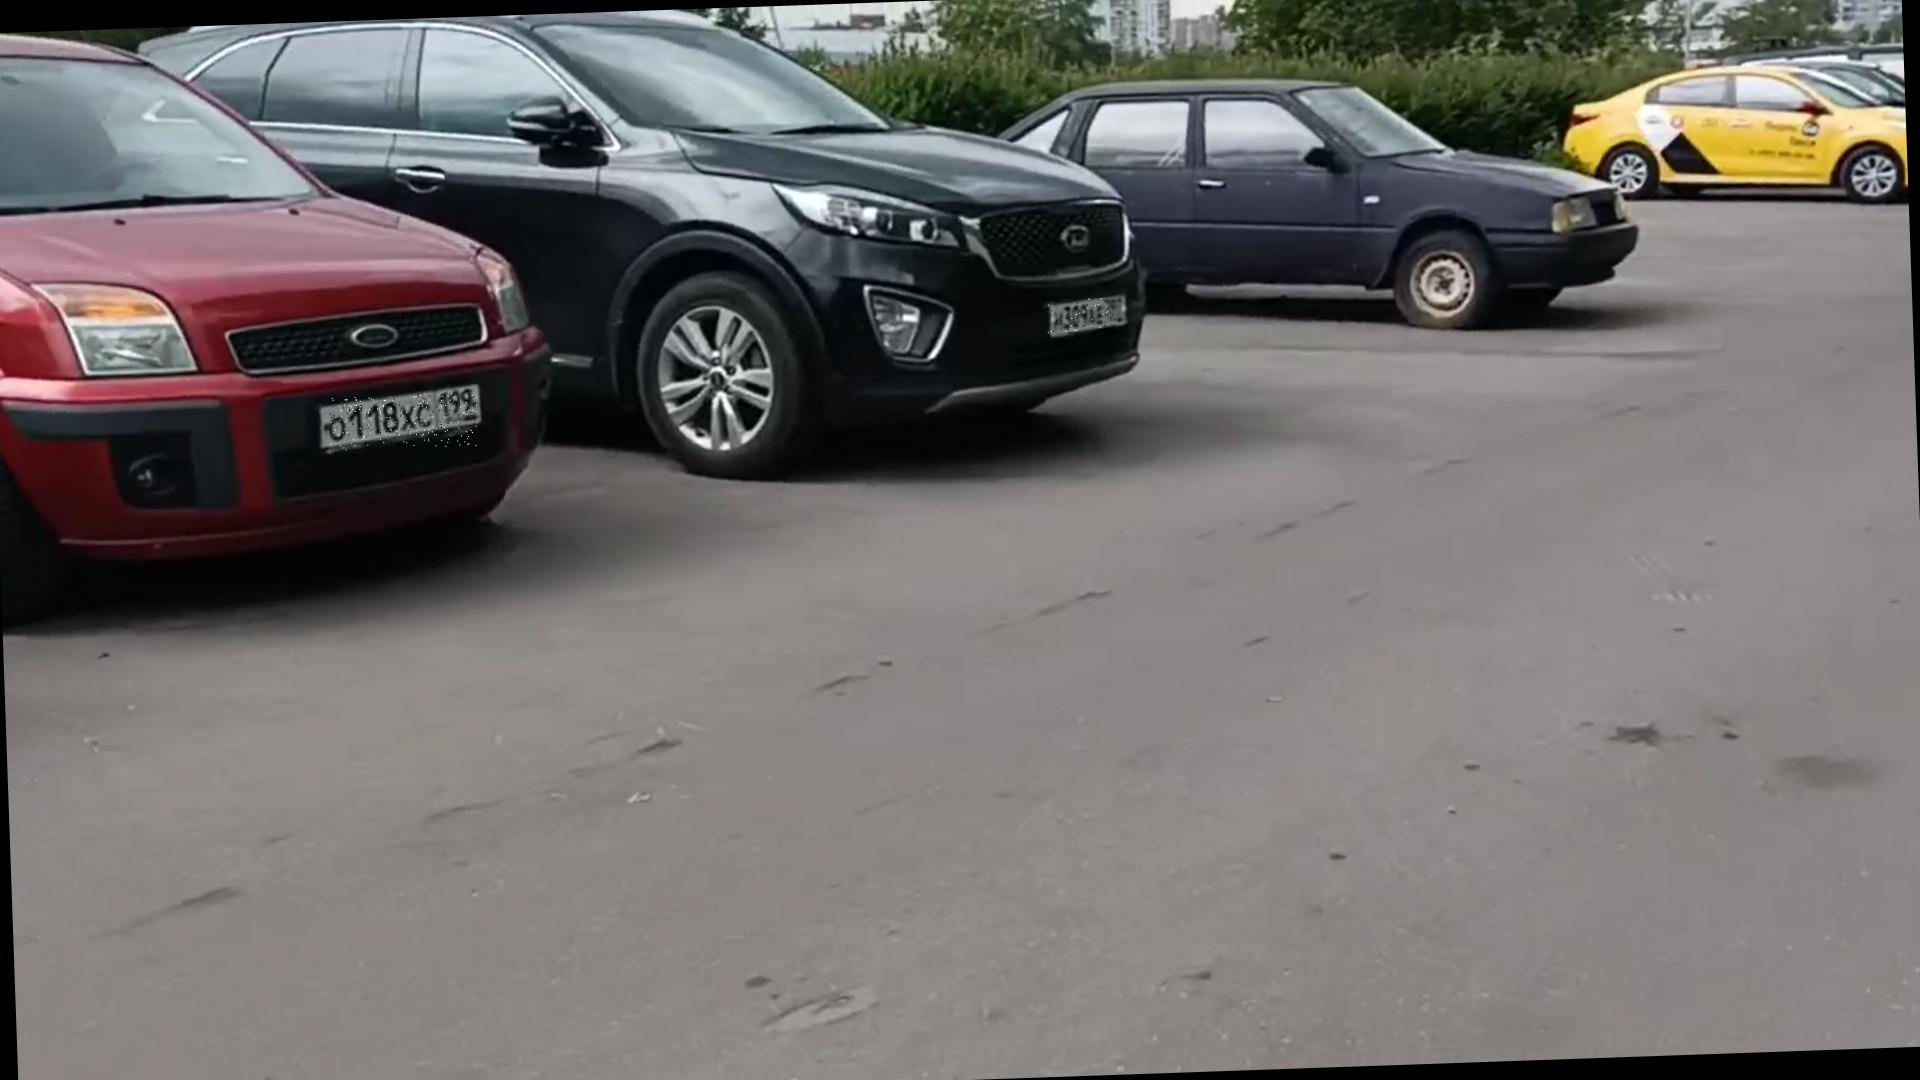plate: (331, 393, 481, 452), (1048, 300, 1119, 337)
